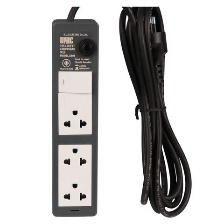three_eye_plug: (47, 17, 99, 218)
